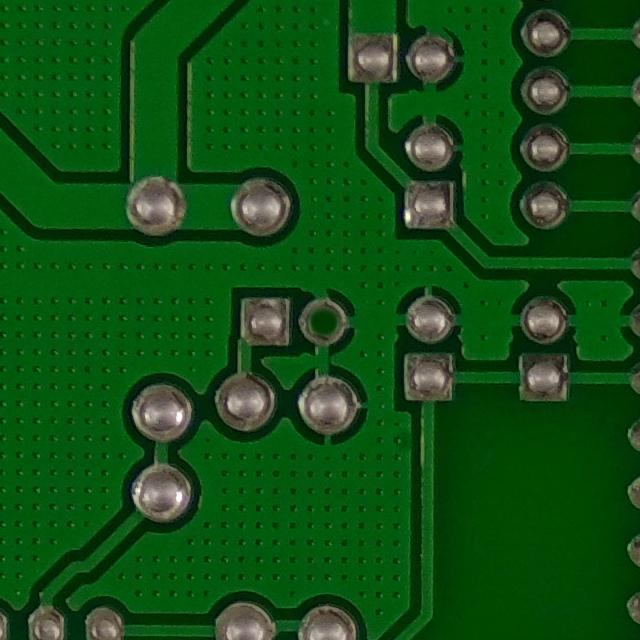missing_hole: (293, 288, 348, 353)
